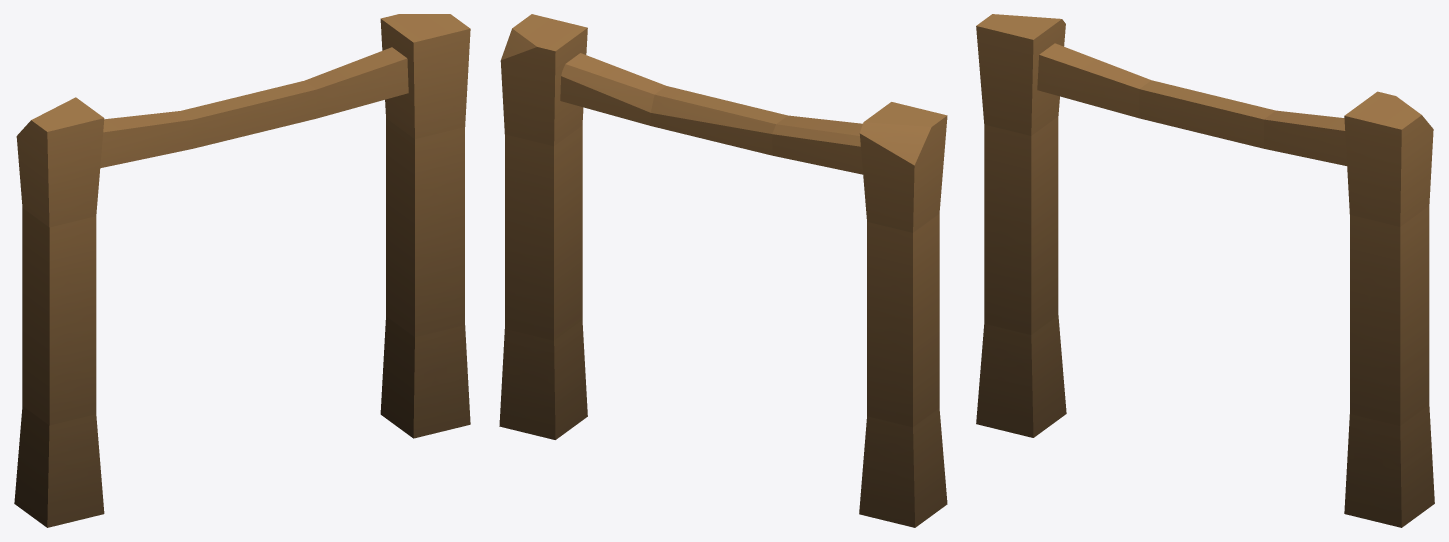
The model's file is Wooden_Arch.fbx.
The picture shows the model from 3 angles, left to right: view 1: azimuth 30°, elevation 25°; view 2: azimuth 150°, elevation 25°; view 3: azimuth 330°, elevation 25°; orthographic projection. The views are drawn at different scales.
Parts seen in each view (by area): view 1: Cube.007; view 2: Cube.007; view 3: Cube.007.
Part boxes in pixels (x1,y1,x2,y2): Cube.007: (14, 14, 470, 527); Cube.007: (499, 14, 947, 527); Cube.007: (976, 14, 1434, 527).
Size of the model in its own units: 358 by 320 by 48.29.
